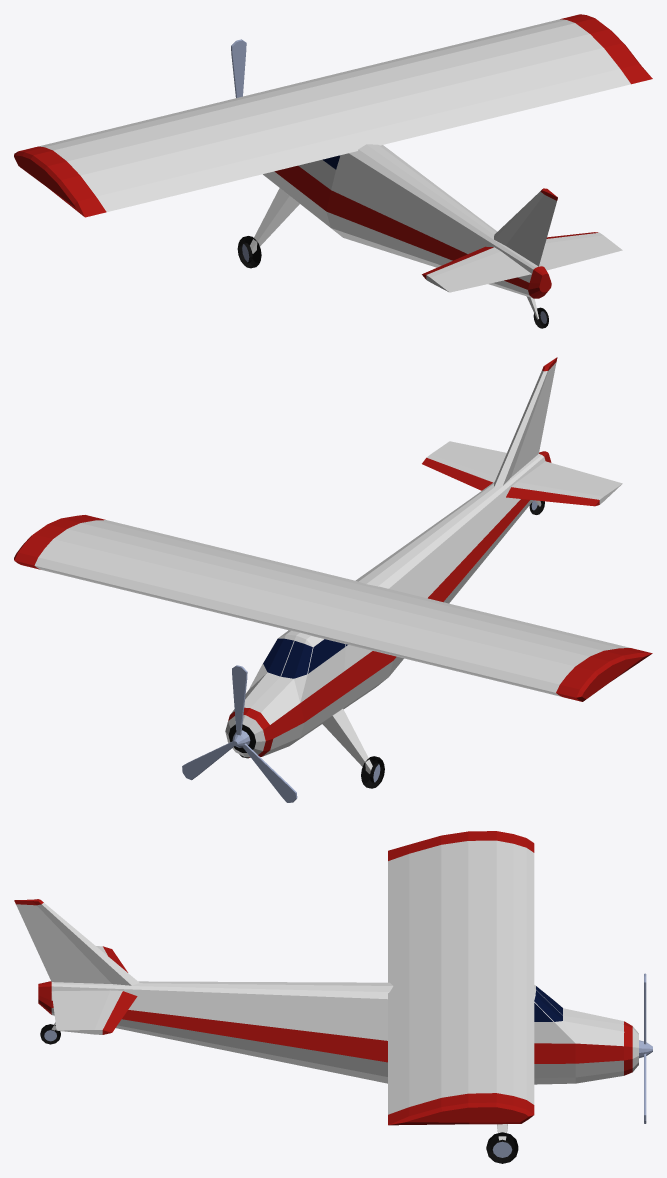
3 views of the same model, one above another, from view 1: azimuth 30°, elevation 25°; view 2: azimuth 150°, elevation 25°; view 3: azimuth 270°, elevation 25° (orthographic).
Visible parts, largest first — view 1: Main.Wing, Body, Tail.H, Tail.V, Foot, Blades.002, Weel.FL; view 2: Main.Wing, Body, Tail.H, Tail.V, Foot, Blades.001, Blades.002, Blades; view 3: Main.Wing, Body, Tail.V, Tail.H, Weel.FR.
Boxes of the visible parts, left/top/right/bottom form: Main.Wing: left=14, top=14, right=652, bottom=217; Body: left=263, top=144, right=551, bottom=298; Tail.H: left=422, top=232, right=622, bottom=292; Tail.V: left=494, top=188, right=557, bottom=266; Foot: left=250, top=188, right=299, bottom=253; Blades.002: left=231, top=39, right=246, bottom=97; Weel.FL: left=237, top=236, right=261, bottom=268; Main.Wing: left=14, top=515, right=652, bottom=701; Body: left=225, top=451, right=551, bottom=757; Tail.H: left=422, top=441, right=622, bottom=506; Tail.V: left=494, top=357, right=557, bottom=487; Foot: left=322, top=709, right=372, bottom=773; Blades.001: left=243, top=743, right=297, bottom=802; Blades.002: left=232, top=665, right=247, bottom=735; Blades: left=182, top=741, right=234, bottom=780; Main.Wing: left=388, top=831, right=534, bottom=1125; Body: left=38, top=981, right=652, bottom=1084; Tail.V: left=14, top=899, right=139, bottom=985; Tail.H: left=51, top=946, right=137, bottom=1034; Weel.FR: left=486, top=1132, right=518, bottom=1163.
Size of the model in its own units: 14.03 by 5.54 by 13.8.
